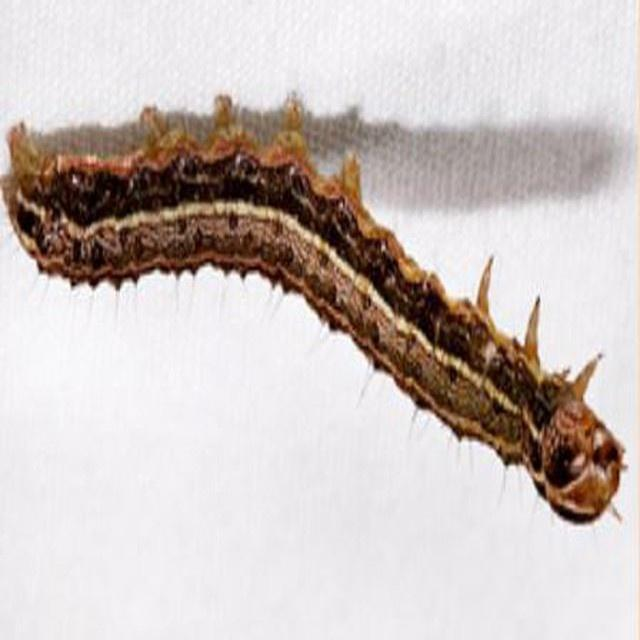gusano_cogollero: (19, 119, 618, 518)
